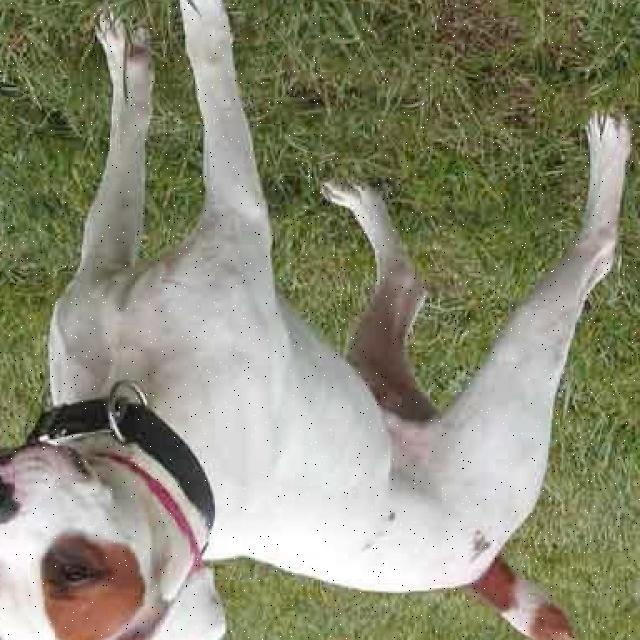Dog: (0, 421, 249, 640)
